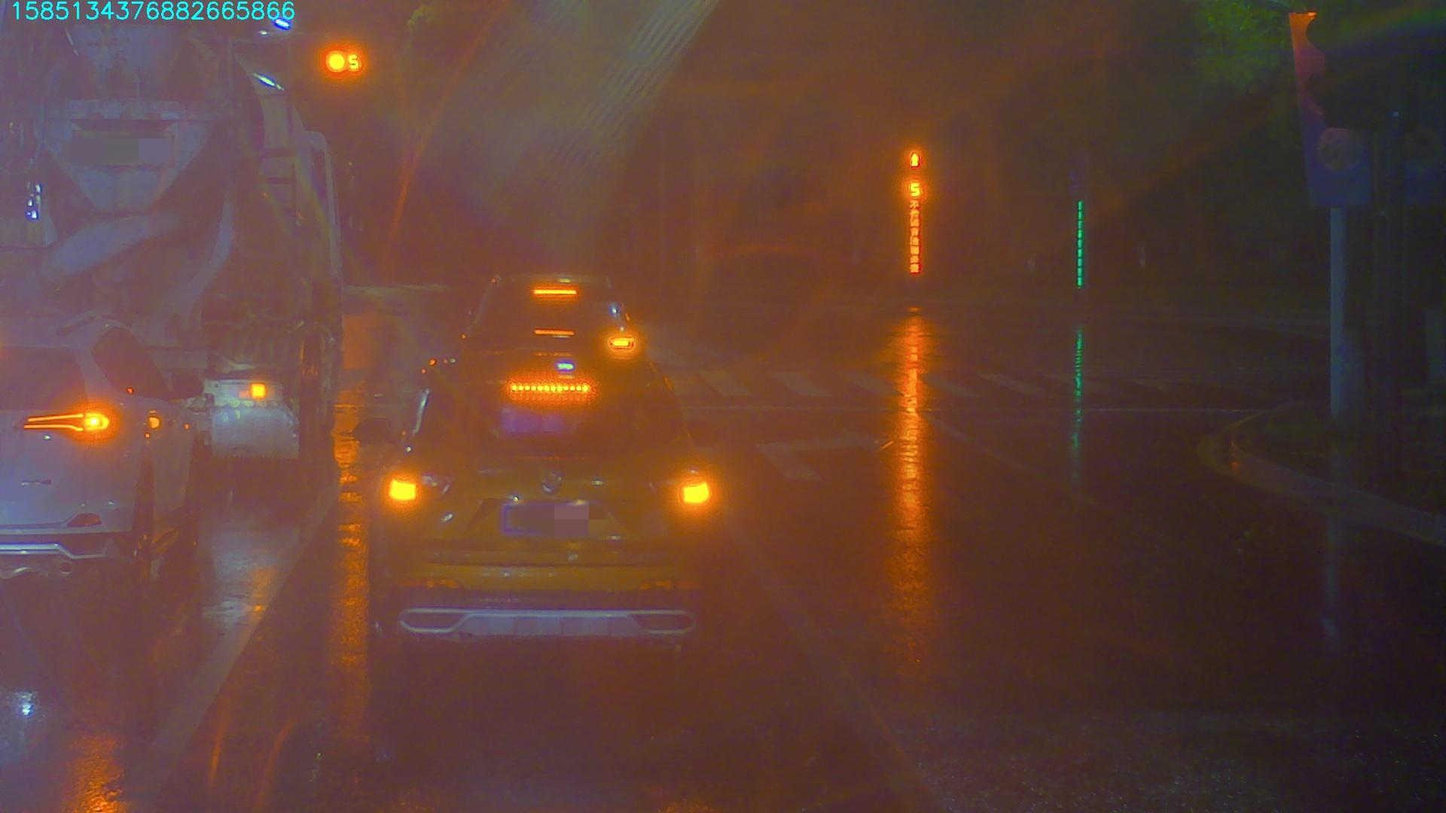red: (323, 49, 363, 81)
